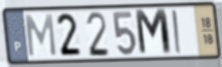2: (55, 12, 84, 58), (85, 10, 111, 58)
5: (111, 9, 139, 57)
I: (170, 9, 184, 56)
M: (133, 7, 174, 58), (24, 13, 58, 58)
